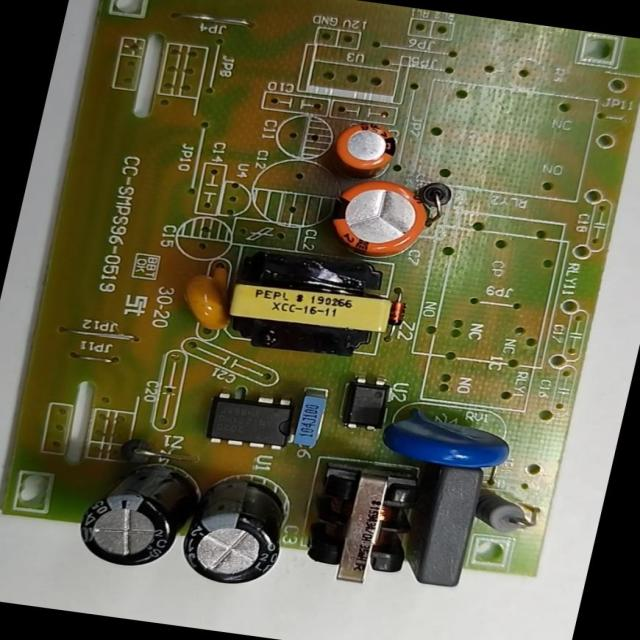Cap1: (313, 166, 441, 270)
Cap2: (320, 111, 410, 188)
Cap3: (164, 455, 310, 598)
Cap4: (61, 442, 220, 580)
MOSFET: (197, 383, 313, 458)
Mov: (366, 396, 528, 480)
Resistor: (458, 478, 554, 542)
Transformer: (198, 237, 406, 369), (294, 454, 438, 594)
